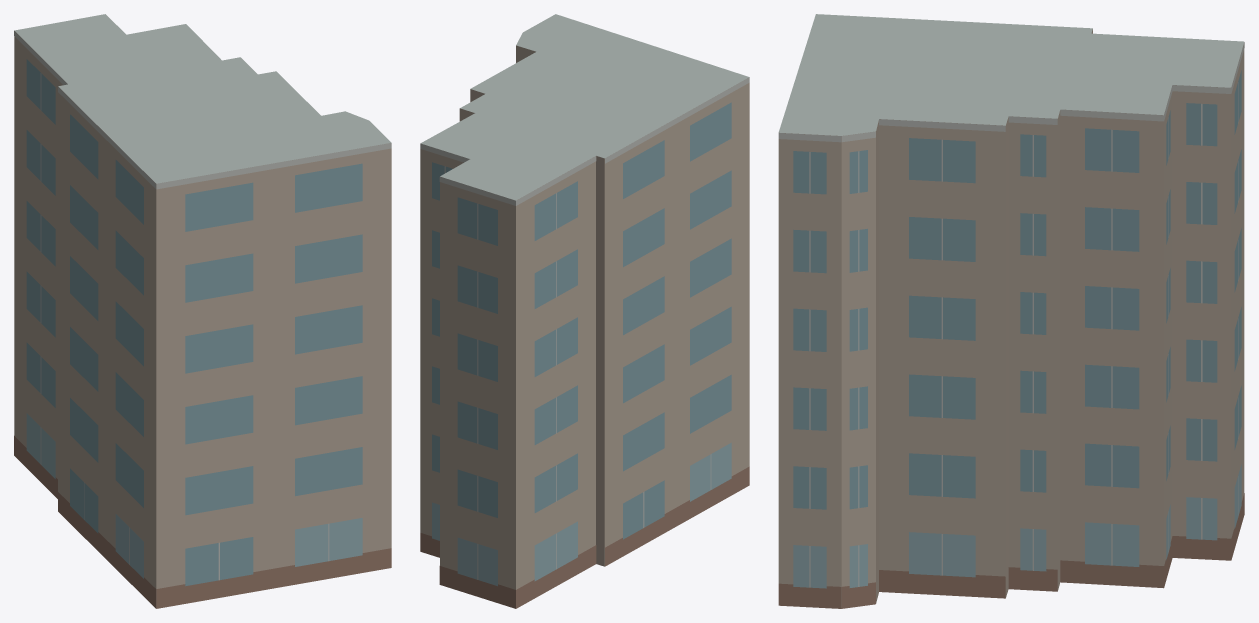
Rendered from survey-upis-32909304.glb.
3 views of the same model, side by side, from view 1: azimuth 30°, elevation 25°; view 2: azimuth 150°, elevation 25°; view 3: azimuth 270°, elevation 25° (orthographic). The views are drawn at different scales.
Parts seen in each view (by area): view 1: survey-upis-32909304.tmp; view 2: survey-upis-32909304.tmp; view 3: survey-upis-32909304.tmp.
Boxes of the visible parts, bbox=[...] form: survey-upis-32909304.tmp: bbox=[14, 14, 391, 608]; survey-upis-32909304.tmp: bbox=[420, 14, 749, 608]; survey-upis-32909304.tmp: bbox=[778, 14, 1244, 608].
Bounding box in the file's own units: 10.13 × 18.3 × 16.35.
